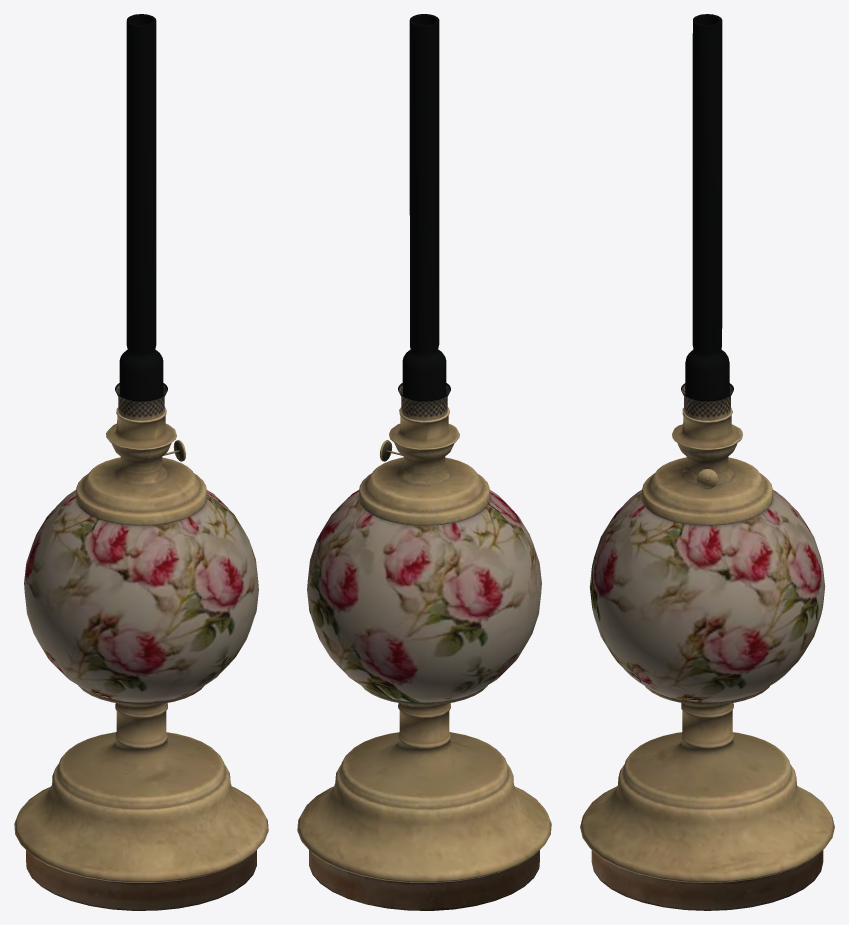
Rendered from lampara_petroleo.glb.
3 views of the same model, side by side, from view 1: azimuth 30°, elevation 25°; view 2: azimuth 150°, elevation 25°; view 3: azimuth 270°, elevation 25° (orthographic).
Parts seen in each view (by area): view 1: vintage_oil_lamp, vintage_oil_lamp_glass; view 2: vintage_oil_lamp, vintage_oil_lamp_glass; view 3: vintage_oil_lamp, vintage_oil_lamp_glass.
Boxes of the visible parts, x1=… form: vintage_oil_lamp: x1=14, y1=407, x2=268, y2=910; vintage_oil_lamp_glass: x1=115, y1=14, x2=167, y2=420; vintage_oil_lamp: x1=297, y1=407, x2=551, y2=910; vintage_oil_lamp_glass: x1=398, y1=14, x2=450, y2=420; vintage_oil_lamp: x1=580, y1=407, x2=834, y2=910; vintage_oil_lamp_glass: x1=681, y1=14, x2=733, y2=420.
Size of the model in its own units: 0.22 by 0.8016 by 0.22.
3 materials, 3 textured.
